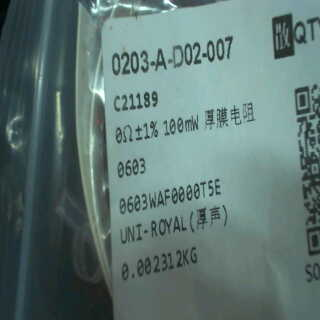0R: (113, 117, 202, 180)
